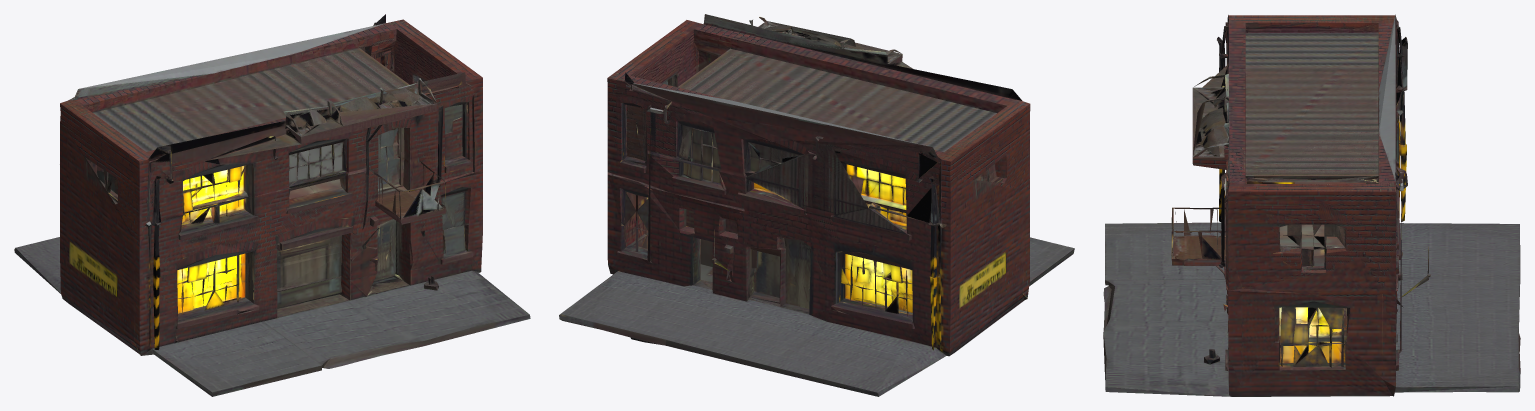
The model's file is warehouse.glb.
3 views of the same model, side by side, from view 1: azimuth 30°, elevation 25°; view 2: azimuth 150°, elevation 25°; view 3: azimuth 270°, elevation 25° (orthographic). The views are drawn at different scales.
Bounding box in the file's own units: 1.9 × 1.13 × 1.9.
1 material, 1 textured.
